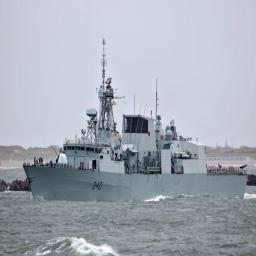Fragata: (24, 37, 249, 205)
